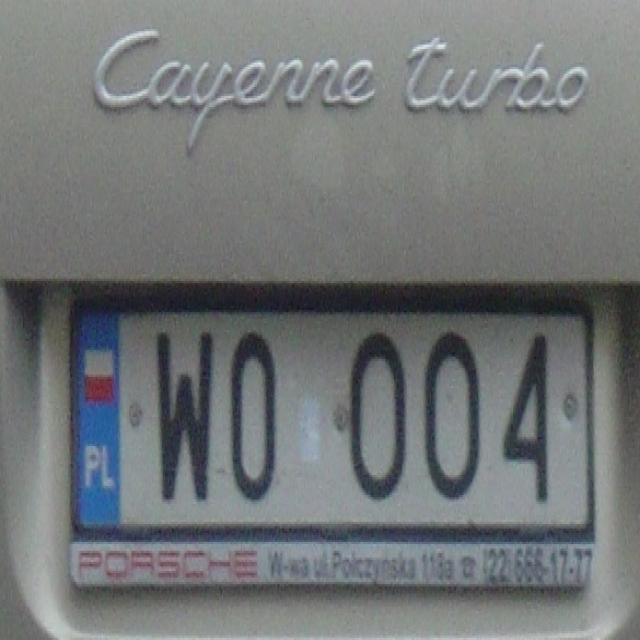pl_license_plate: (79, 310, 587, 520)
